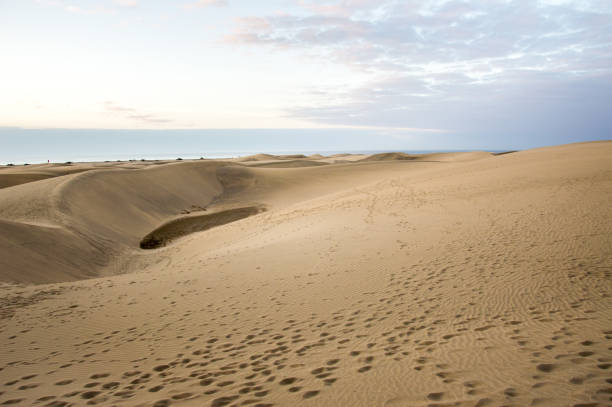human_foot_print: (64, 225, 504, 404), (8, 321, 250, 394), (485, 294, 611, 400)
